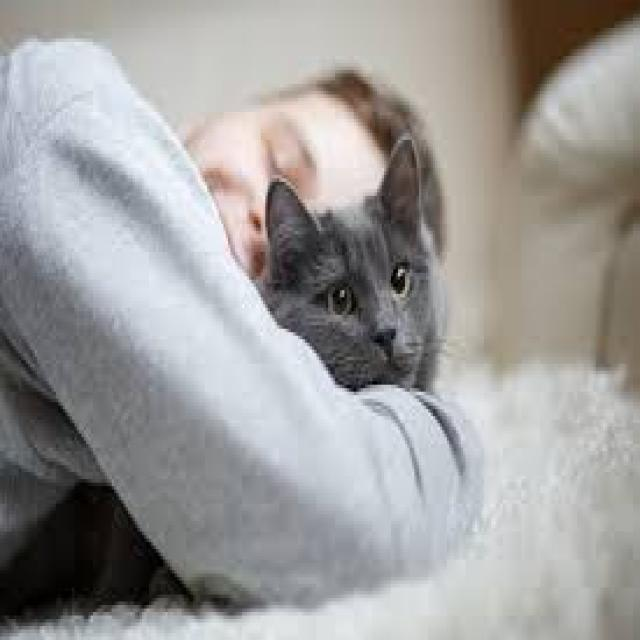Cat: (256, 133, 443, 414)
